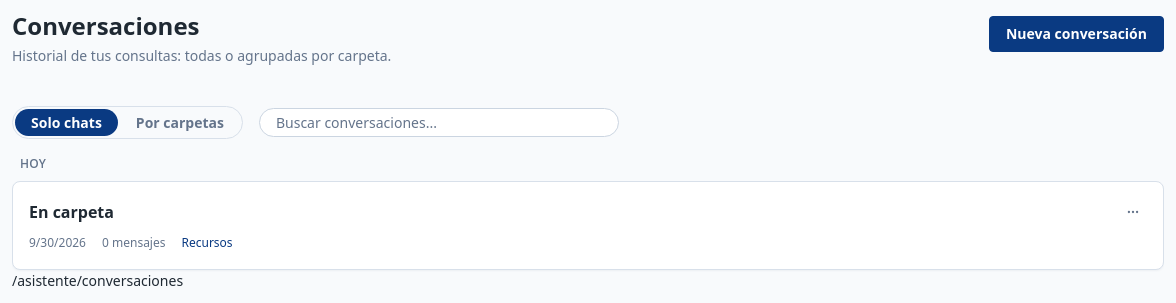
it: Conversaciones › cambia a modo 'Por carpetas' y agrupa por carpeta
Step 1. Click the button "Por carpetas" → x=180, y=122, box [120,109,240,136]
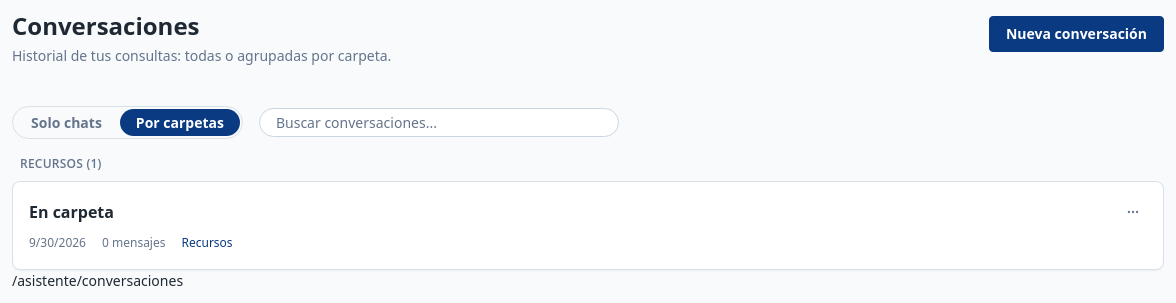
Result: the heading "Recursos (1)" is shown at [20,155,102,172]
